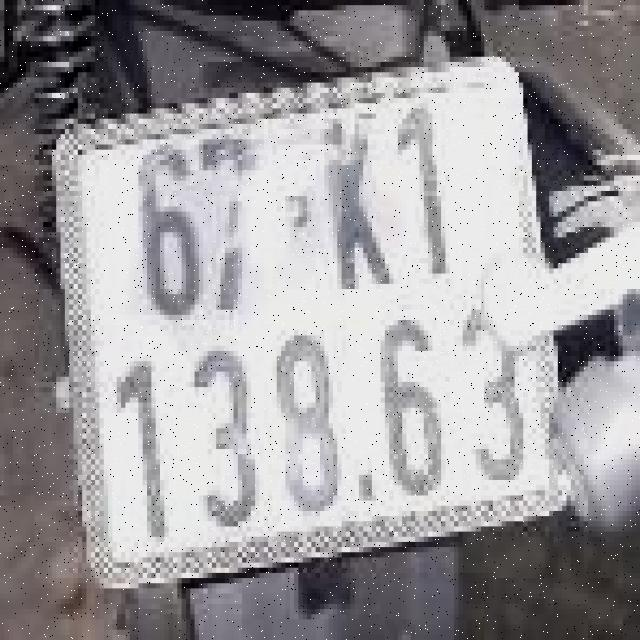1: (117, 348, 177, 555), (400, 95, 456, 297)
3: (190, 333, 260, 539), (460, 302, 526, 483)
6: (368, 312, 450, 508), (125, 129, 203, 315)
7: (188, 121, 270, 323)
8: (264, 325, 346, 511)
K: (307, 98, 402, 299)
